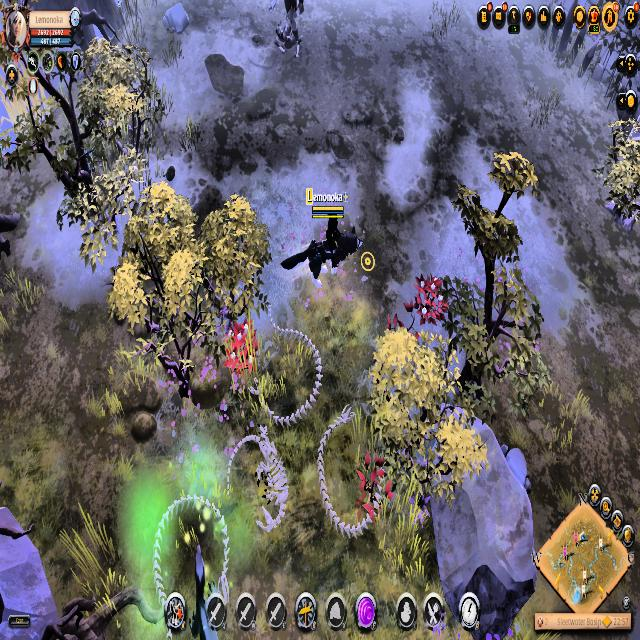fiber tier 5: (222, 318, 264, 377), (412, 271, 450, 329)
